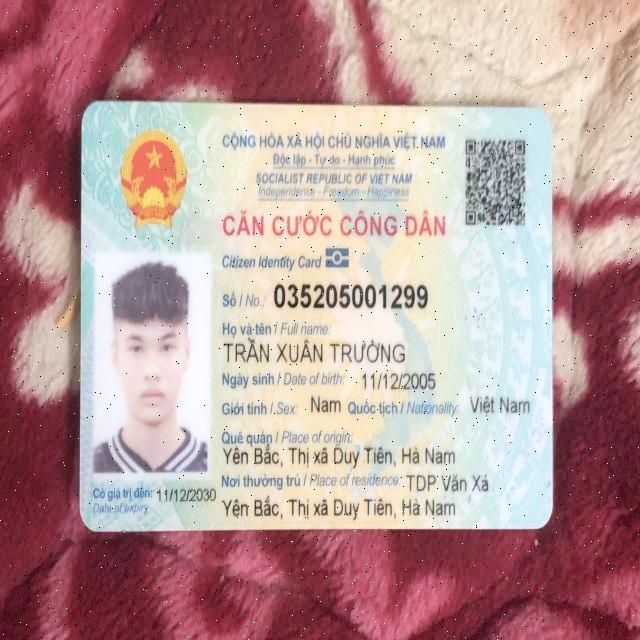current_place: (221, 491, 457, 520), (403, 470, 490, 495)
dob: (357, 364, 437, 391)
expire_date: (153, 484, 218, 507)
gender: (310, 392, 345, 415)
id: (271, 276, 429, 310)
name: (225, 333, 406, 366)
nationality: (468, 395, 530, 418)
origin_place: (222, 444, 456, 469)
qr: (459, 135, 531, 230)
